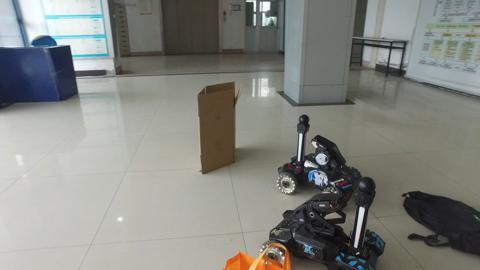box: (196, 85, 242, 170)
chariot: (268, 176, 391, 270), (274, 116, 363, 194)
